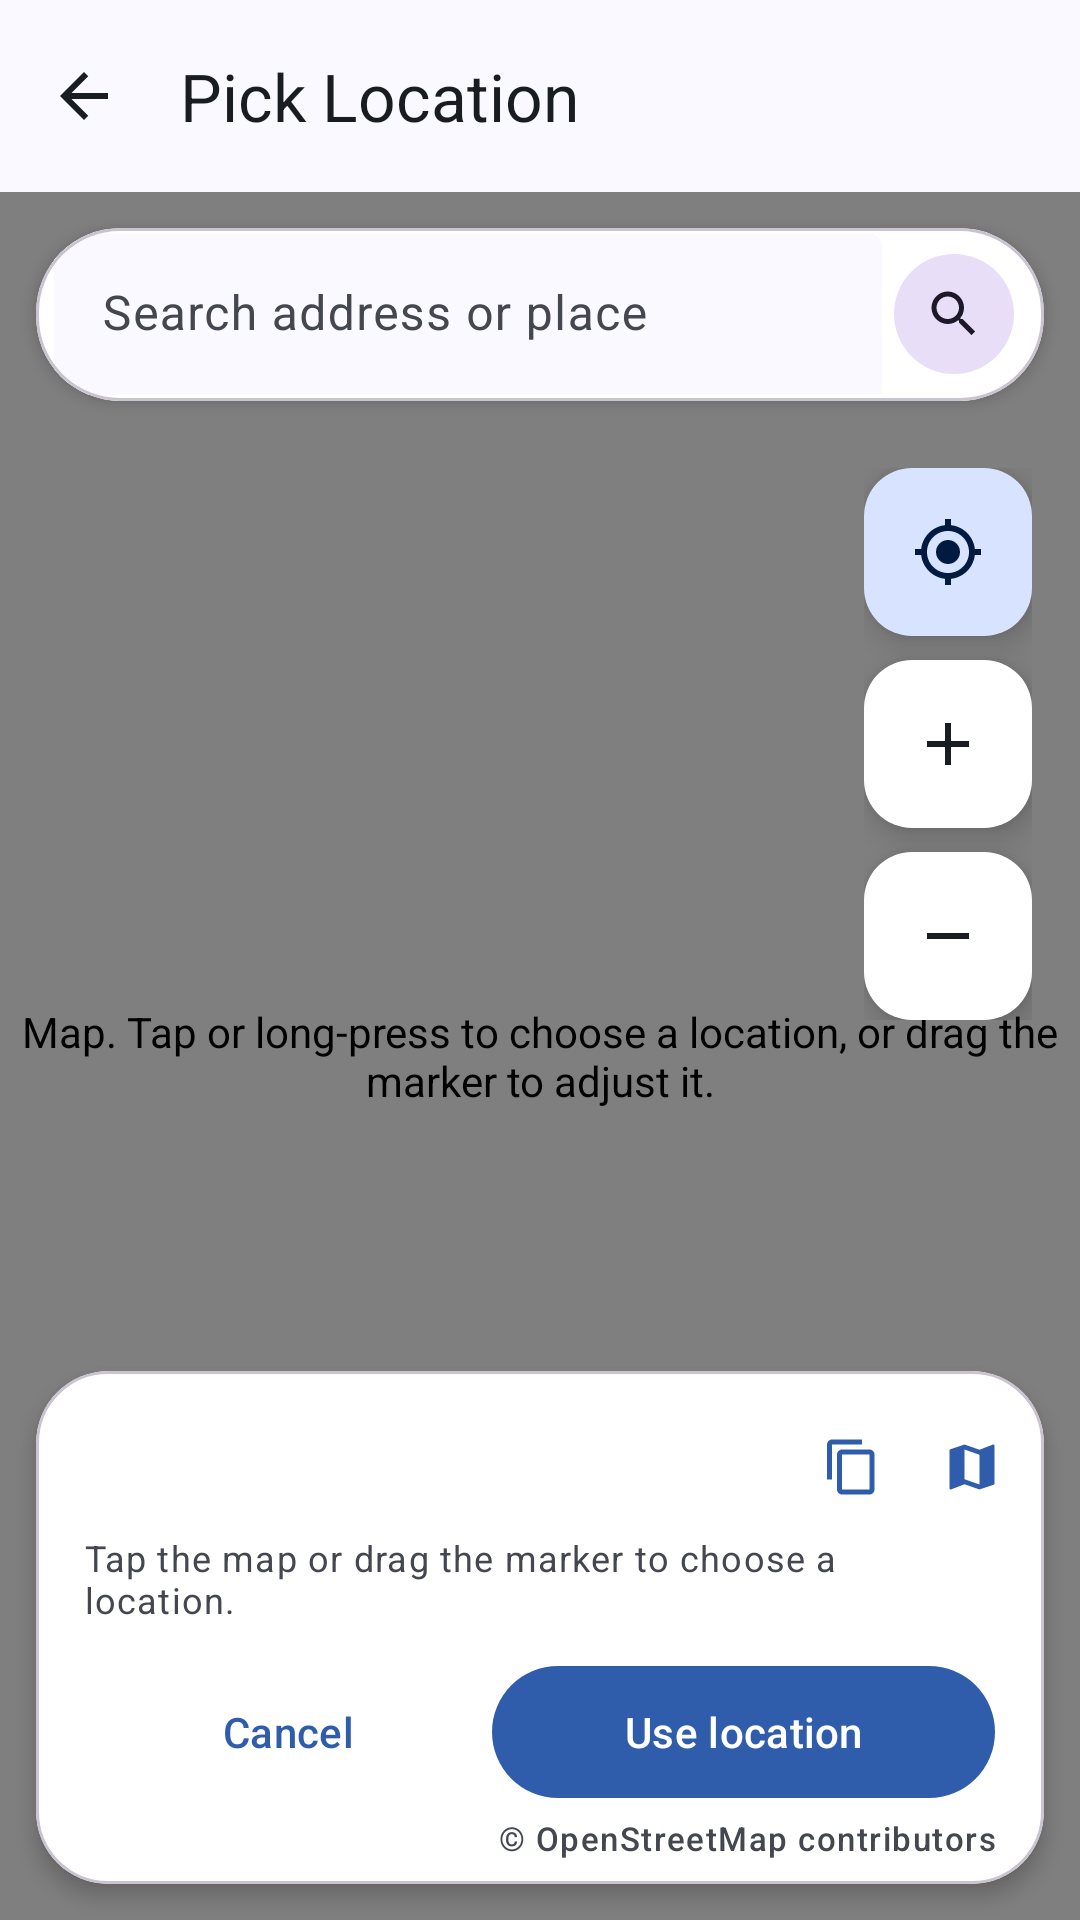

Icon bounding boxes for this 1080×1920 phone screenshot, format rect(x1, y1, x2, y2):
Center on marker: rect(864, 468, 1032, 636)
Copy: rect(827, 1439, 875, 1495)
Open in Maps: rect(949, 1444, 995, 1490)
Zoom in: rect(864, 660, 1032, 828)
Zoom out: rect(864, 852, 1032, 1020)
